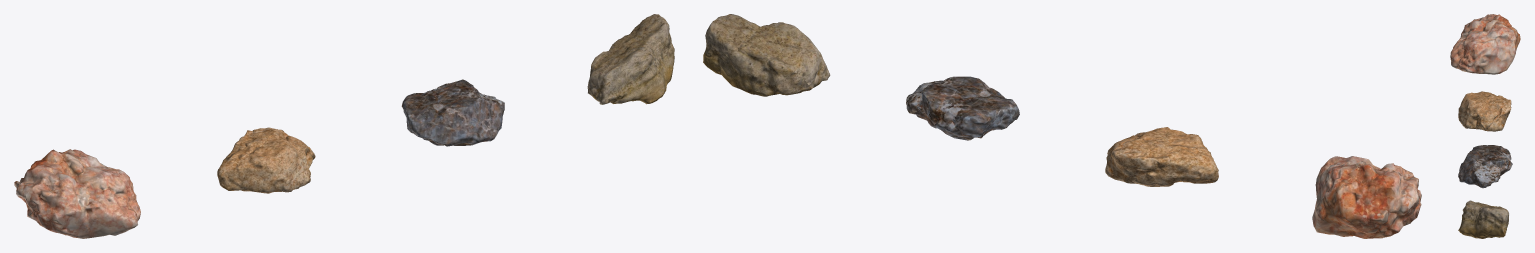
File: rocks1.glb
3 views of the same model, side by side, from view 1: azimuth 30°, elevation 25°; view 2: azimuth 150°, elevation 25°; view 3: azimuth 270°, elevation 25° (orthographic). The views are drawn at different scales.
Parts seen in each view (by area): view 1: rocks1; view 2: rocks1; view 3: rocks1.
Part boxes in pixels (<box>): rocks1: <box>14,14,674,238</box>; rocks1: <box>703,14,1421,238</box>; rocks1: <box>1450,14,1520,238</box>.
Size of the model in its own units: 1.45 by 0.1516 by 0.2151.
Materials: 1 (1 with a texture image).
